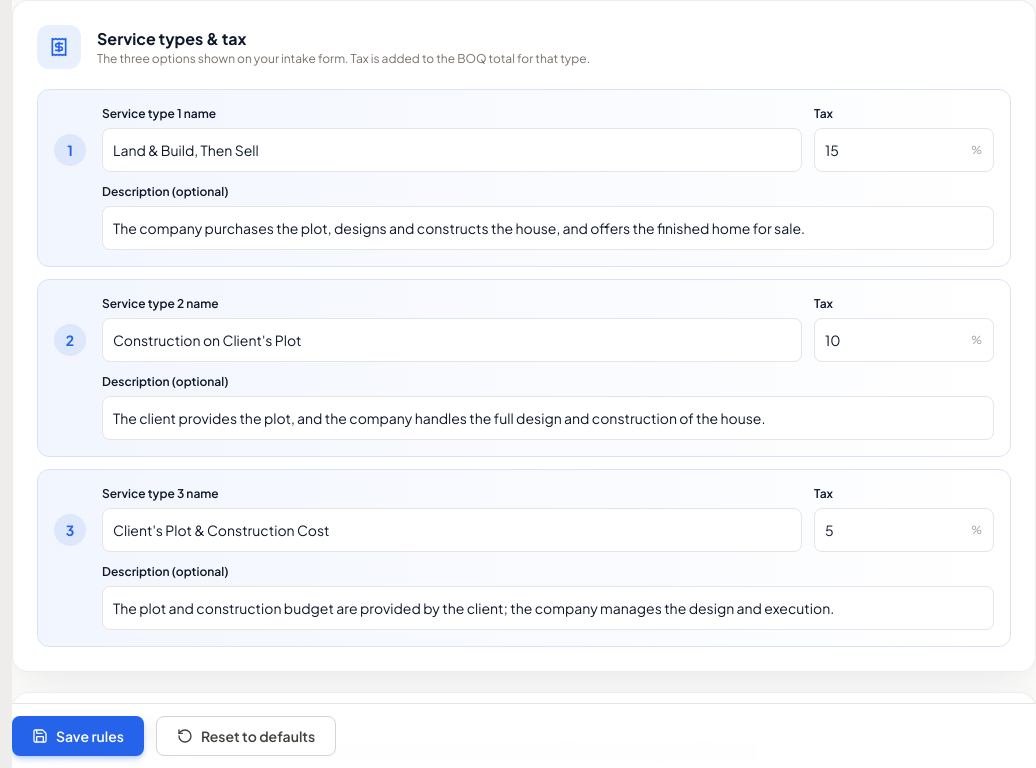
Scenario: RulesForm › saves edited text and numbers, sending blank notes as null
Replace the text in the field labelled "Service type 2 name" with "Turnkey". click: (452, 340)
box: [102,318,802,362]
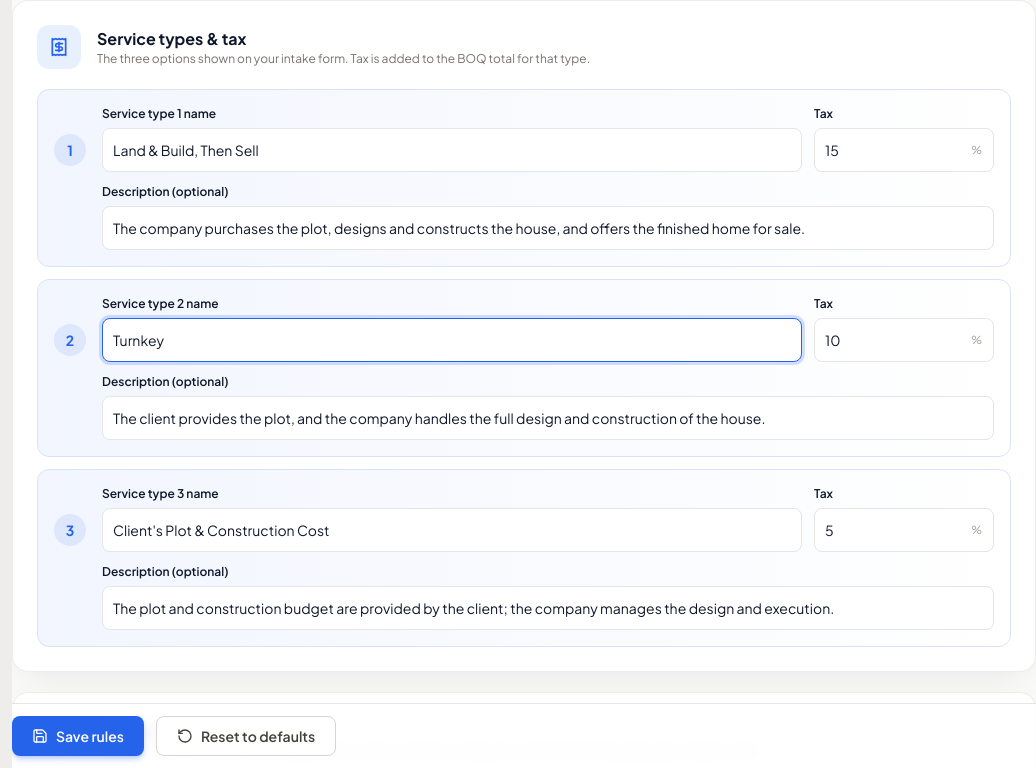
Replace the text in the number field with id "m2-tax" with "8". click: (904, 340)
box: [814,318,994,362]
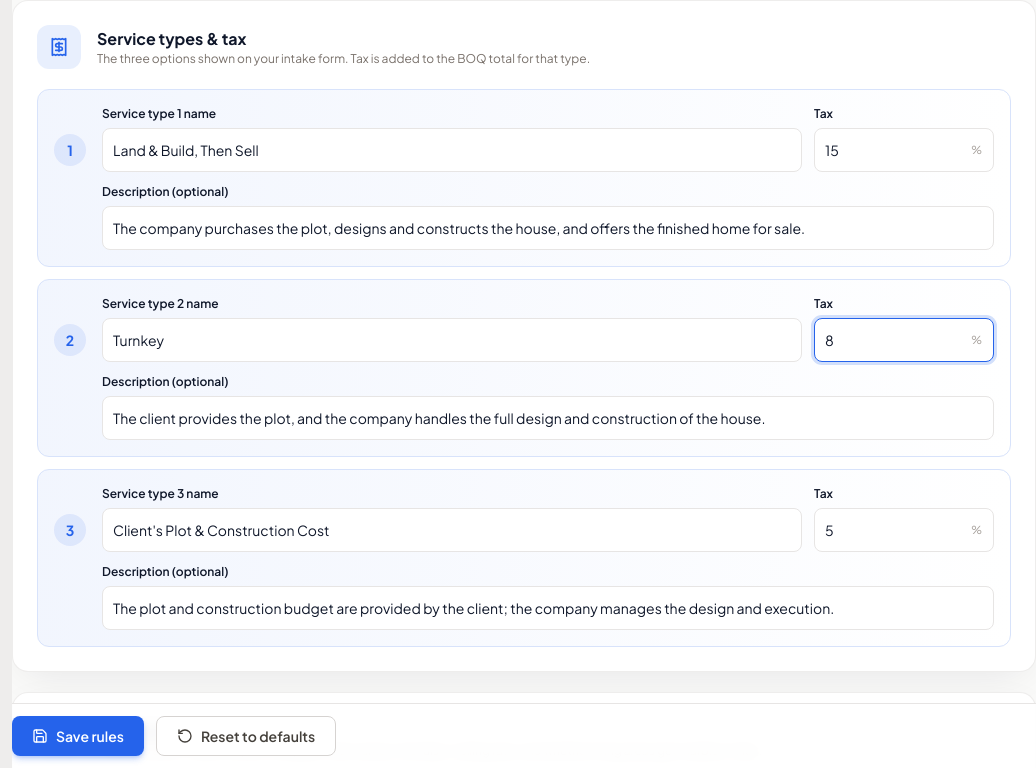
Click the button "Save rules". click: (78, 736)
box: [12,716,144,756]
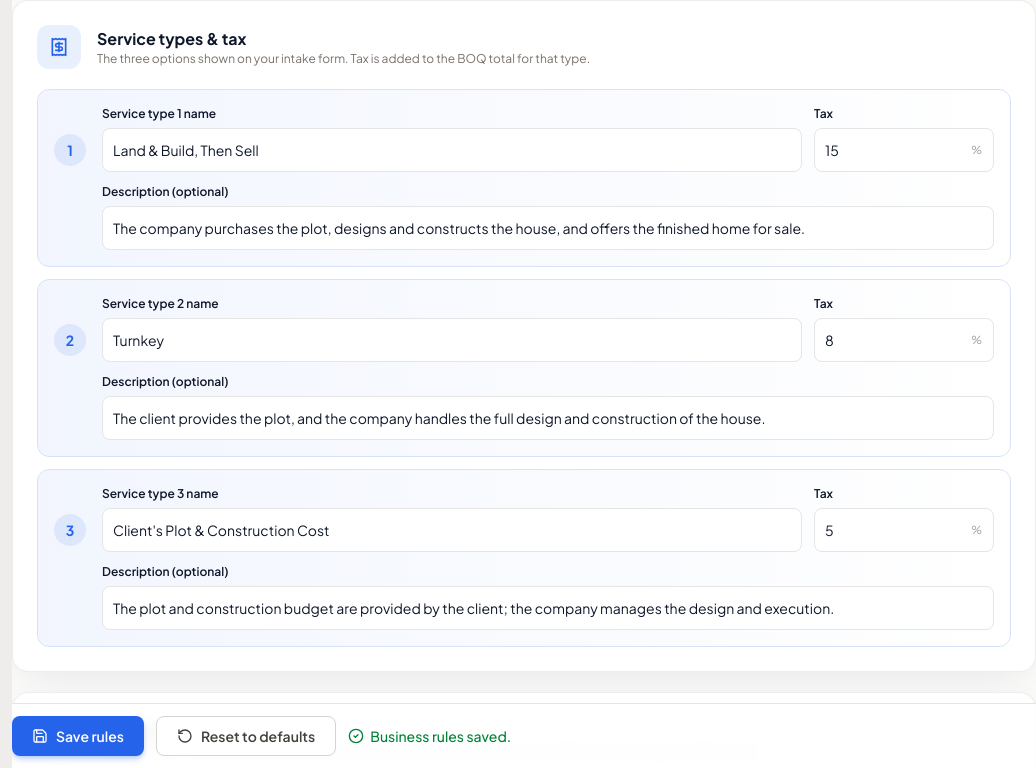
Now the message shows "rules saved", box [370,727,511,745]
